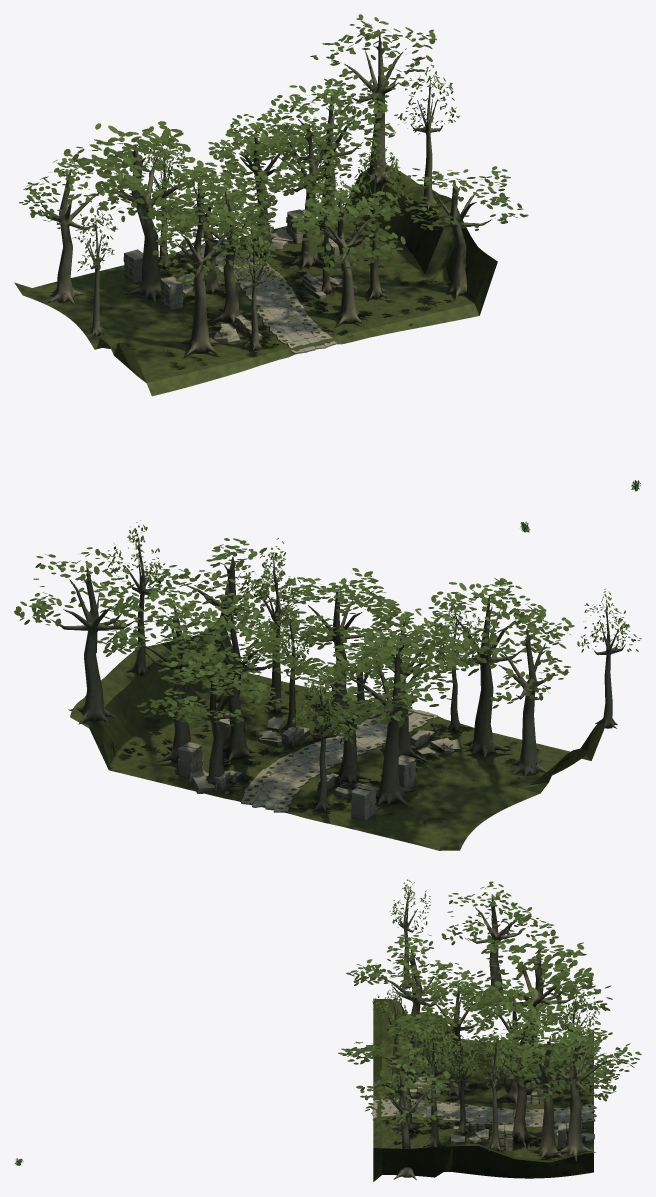
File: approach.glb
3 views of the same model, one above another, from view 1: azimuth 30°, elevation 25°; view 2: azimuth 150°, elevation 25°; view 3: azimuth 270°, elevation 25° (orthographic). The views are drawn at different scales.
Parts seen in each view (by area): view 1: ForestApproach_Foliage_Cell_-1_-3, ForestApproach_Foliage_Cell_-1_-2, ForestApproach_Ground_Cell_-1_-3, ForestApproach_Wood_Cell_-1_-3, ForestApproach_Ground_Cell_0_-3, ForestApproach_Ground_Cell_-1_-2, ForestApproach_Foliage_Cell_0_-3, ForestApproach_Stone_Cell_-1_-3, ForestApproach_Wood_Cell_-1_-2, ForestApproach_Ground_Cell_0_-2, ForestApproach_Ground_Cell_-2_-3, ForestApproach_Wood_Cell_0_-3 (+8 smaller); view 2: ForestApproach_Foliage_Cell_-1_-3, ForestApproach_Ground_Cell_-1_-3, ForestApproach_Ground_Cell_0_-3, ForestApproach_Wood_Cell_-1_-3, ForestApproach_Stone_Cell_-1_-3, ForestApproach_Foliage_Cell_-1_-2, ForestApproach_Foliage_Cell_0_-3, ForestApproach_Ground_Cell_-2_-3, ForestApproach_Wood_Cell_0_-3, ForestApproach_Wood_Cell_-1_-2, ForestApproach_Ground_Cell_-1_-2, ForestApproach_Foliage_Cell_-2_-3 (+8 smaller); view 3: ForestApproach_Foliage_Cell_-1_-3, ForestApproach_Foliage_Cell_-1_-2, ForestApproach_Foliage_Cell_0_-3, ForestApproach_Wood_Cell_-1_-3, ForestApproach_Ground_Cell_-1_-3, ForestApproach_Stone_Cell_-1_-3, ForestApproach_Ground_Cell_0_-3, ForestApproach_Wood_Cell_0_-3, ForestApproach_Wood_Cell_-1_-2, ForestApproach_Ground_Cell_-1_-2, ForestApproach_Foliage_Cell_0_-2, ForestApproach_Foliage_Cell_-2_-3 (+8 smaller).
Part boxes in pixels (bbox=[...]): ForestApproach_Foliage_Cell_-1_-3: bbox=[87, 85, 382, 245]; ForestApproach_Foliage_Cell_-1_-2: bbox=[169, 138, 405, 287]; ForestApproach_Ground_Cell_-1_-3: bbox=[71, 226, 387, 345]; ForestApproach_Wood_Cell_-1_-3: bbox=[110, 119, 369, 323]; ForestApproach_Ground_Cell_0_-3: bbox=[317, 164, 463, 289]; ForestApproach_Ground_Cell_-1_-2: bbox=[158, 288, 424, 381]; ForestApproach_Foliage_Cell_0_-3: bbox=[286, 14, 459, 213]; ForestApproach_Stone_Cell_-1_-3: bbox=[123, 209, 357, 330]; ForestApproach_Wood_Cell_-1_-2: bbox=[175, 153, 393, 356]; ForestApproach_Ground_Cell_0_-2: bbox=[383, 226, 497, 326]; ForestApproach_Ground_Cell_-2_-3: bbox=[14, 279, 169, 350]; ForestApproach_Wood_Cell_0_-3: bbox=[312, 35, 444, 245]; ForestApproach_Foliage_Cell_-1_-3: bbox=[150, 563, 486, 744]; ForestApproach_Ground_Cell_-1_-3: bbox=[167, 714, 497, 840]; ForestApproach_Ground_Cell_0_-3: bbox=[70, 641, 264, 784]; ForestApproach_Wood_Cell_-1_-3: bbox=[176, 596, 432, 813]; ForestApproach_Stone_Cell_-1_-3: bbox=[178, 713, 434, 820]; ForestApproach_Foliage_Cell_-1_-2: bbox=[258, 538, 532, 675]; ForestApproach_Foliage_Cell_0_-3: bbox=[14, 520, 254, 717]; ForestApproach_Ground_Cell_-2_-3: bbox=[400, 764, 556, 850]; ForestApproach_Wood_Cell_0_-3: bbox=[50, 534, 200, 762]; ForestApproach_Wood_Cell_-1_-2: bbox=[258, 562, 518, 760]; ForestApproach_Ground_Cell_-1_-2: bbox=[249, 684, 521, 768]; ForestApproach_Foliage_Cell_-2_-3: bbox=[400, 615, 574, 708]; ForestApproach_Foliage_Cell_-1_-3: bbox=[440, 923, 628, 1095]; ForestApproach_Foliage_Cell_-1_-2: bbox=[338, 931, 444, 1090]; ForestApproach_Foliage_Cell_0_-3: bbox=[441, 1019, 641, 1101]; ForestApproach_Wood_Cell_-1_-3: bbox=[442, 948, 599, 1149]; ForestApproach_Ground_Cell_-1_-3: bbox=[444, 1060, 593, 1155]; ForestApproach_Stone_Cell_-1_-3: bbox=[442, 1057, 596, 1150]; ForestApproach_Ground_Cell_0_-3: bbox=[444, 1144, 593, 1178]; ForestApproach_Wood_Cell_0_-3: bbox=[487, 1033, 610, 1160]; ForestApproach_Wood_Cell_-1_-2: bbox=[377, 949, 444, 1147]; ForestApproach_Ground_Cell_-1_-2: bbox=[373, 1063, 443, 1148]; ForestApproach_Foliage_Cell_0_-2: bbox=[356, 1041, 444, 1135]; ForestApproach_Foliage_Cell_-2_-3: bbox=[442, 881, 586, 979].
Bounding box in the file's own units: 51.26 × 21.73 × 71.11.
Materials: 4 (3 with a texture image).
